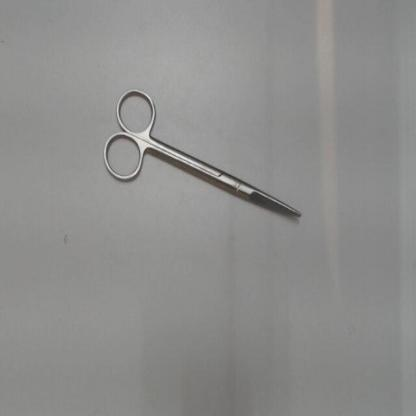Curved Mayo Scissors: (97, 80, 305, 222)
